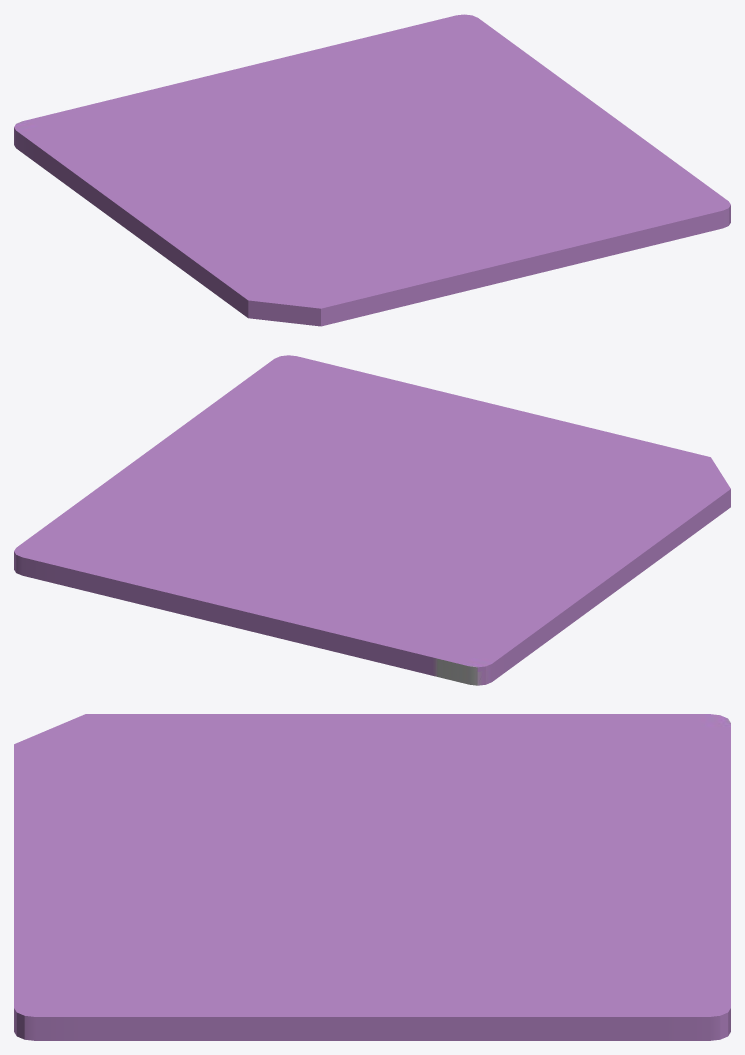
Rendered from A_FloppyDisk.fbx.
3 renders of one model, top to bottom at view 1: azimuth 30°, elevation 25°; view 2: azimuth 150°, elevation 25°; view 3: azimuth 270°, elevation 25°, orthographic. The views are drawn at different scales.
Visible parts, largest first — view 1: A_FloppyDisk; view 2: A_FloppyDisk; view 3: A_FloppyDisk.
Part boxes in pixels (<box>): A_FloppyDisk: <box>14,14,730,326</box>; A_FloppyDisk: <box>14,355,730,685</box>; A_FloppyDisk: <box>14,714,730,1040</box>.
Size of the model in its own units: 1.44 by 0.0532 by 1.44.
Materials: 1 (1 with a texture image).
